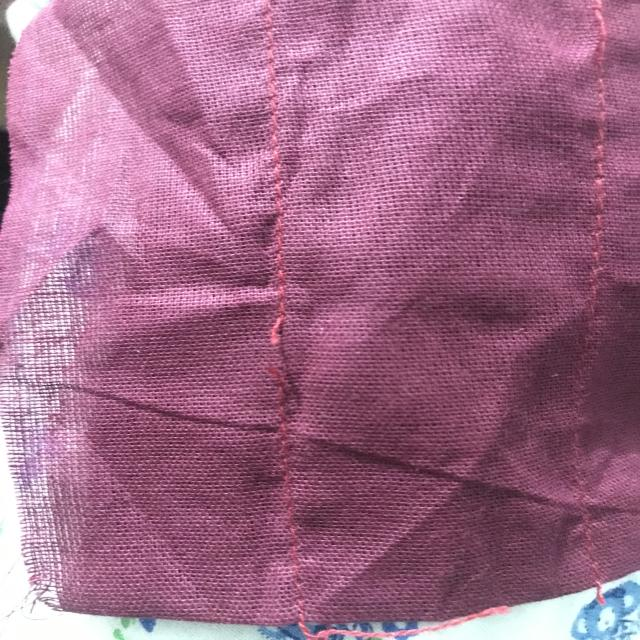broken: (244, 304, 326, 416)
good: (258, 151, 304, 268)
